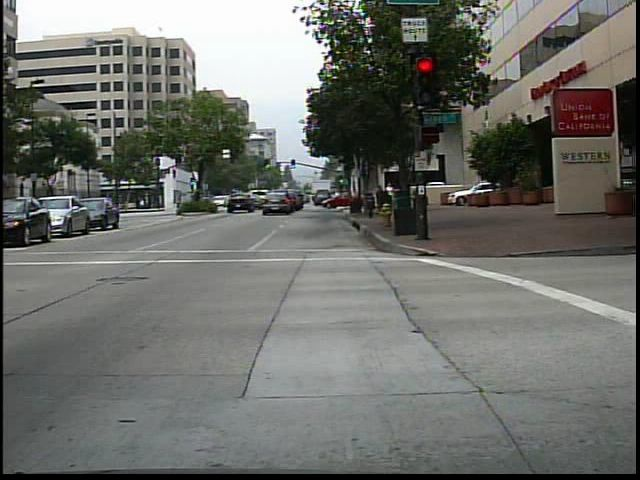person: (172, 196, 184, 209)
